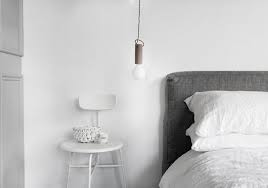bulb: (128, 56, 150, 86)
